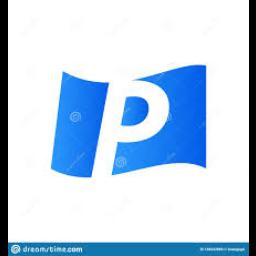o: (89, 80, 171, 176)
